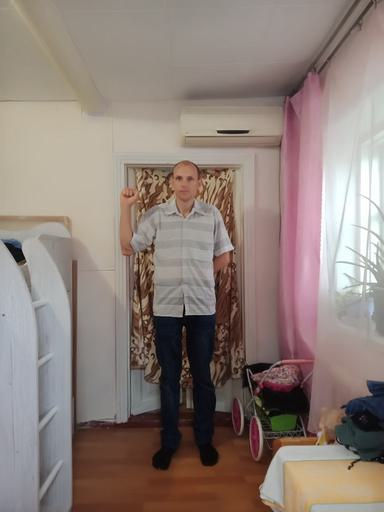fist: (118, 186, 141, 210)
